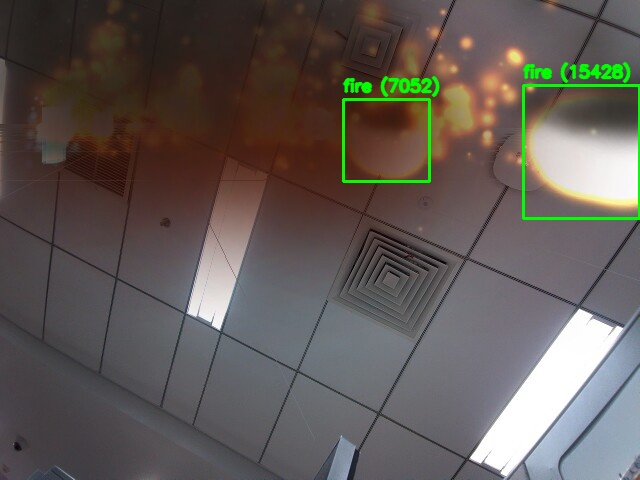fire: (523, 85, 639, 218), (343, 99, 429, 181)
